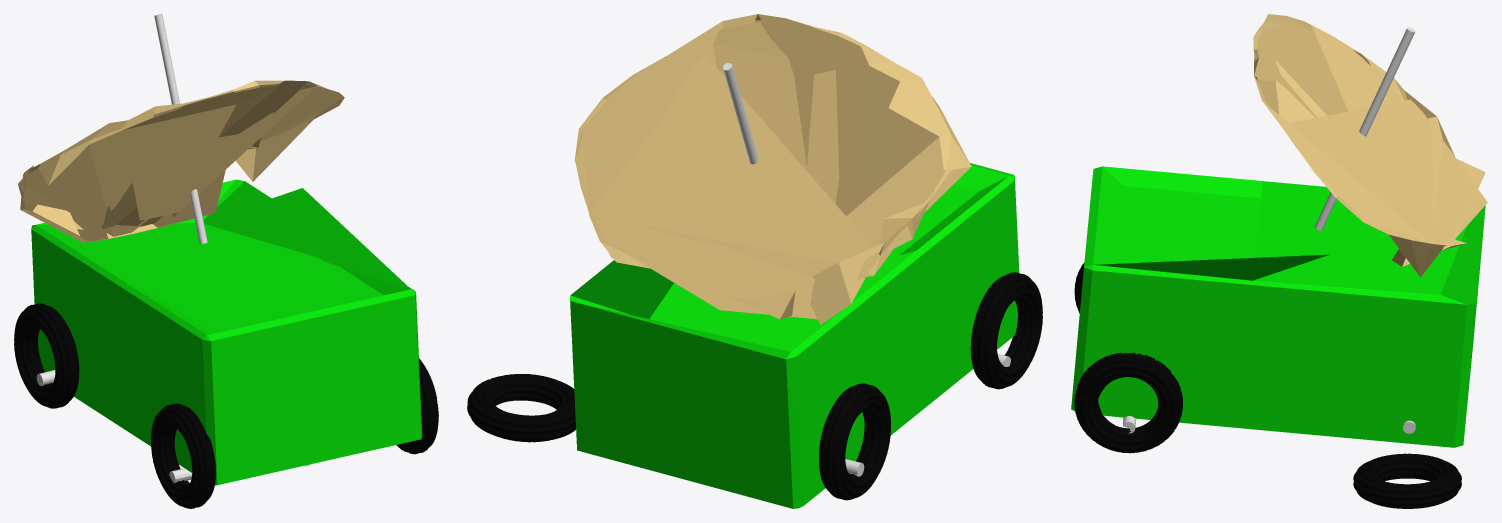
Rendered from cart3broken.fbx.
3 views of the same model, side by side, from view 1: azimuth 30°, elevation 25°; view 2: azimuth 150°, elevation 25°; view 3: azimuth 270°, elevation 25° (orthographic). The views are drawn at different scales.
Parts seen in each view (by area): view 1: Cylinder; view 2: Cylinder; view 3: Cylinder.
Part boxes in pixels (bbox=[...]): Cylinder: bbox=[14, 14, 438, 508]; Cylinder: bbox=[467, 14, 1042, 508]; Cylinder: bbox=[1071, 14, 1487, 508].
Size of the model in its own units: 1684 by 1504 by 1513.
